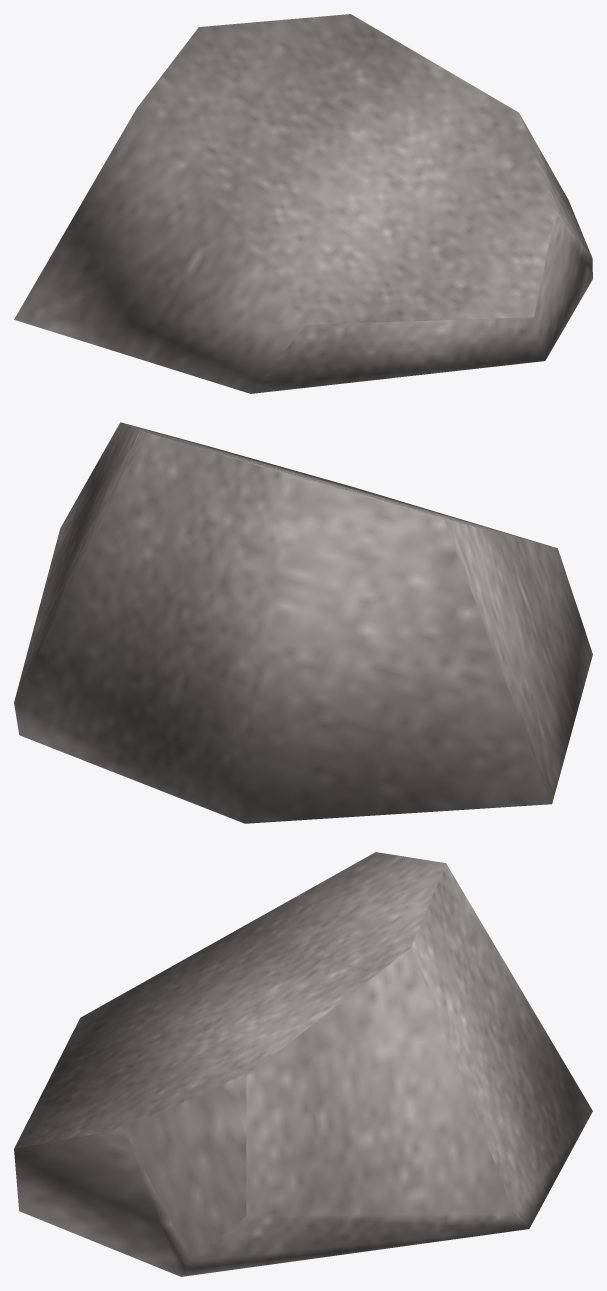
File: boulder_17.glb
3 renders of one model, top to bottom at view 1: azimuth 30°, elevation 25°; view 2: azimuth 150°, elevation 25°; view 3: azimuth 270°, elevation 25°, orthographic. The views are drawn at different scales.
Visible parts, largest first — view 1: boulder_17; view 2: boulder_17; view 3: boulder_17.
Boxes of the visible parts, x1,y1,x2,y2 form: boulder_17: [14, 14, 592, 393]; boulder_17: [14, 422, 592, 823]; boulder_17: [14, 852, 592, 1276].
Size of the model in its own units: 2.26 by 1.05 by 2.1.
1 material, 1 textured.
